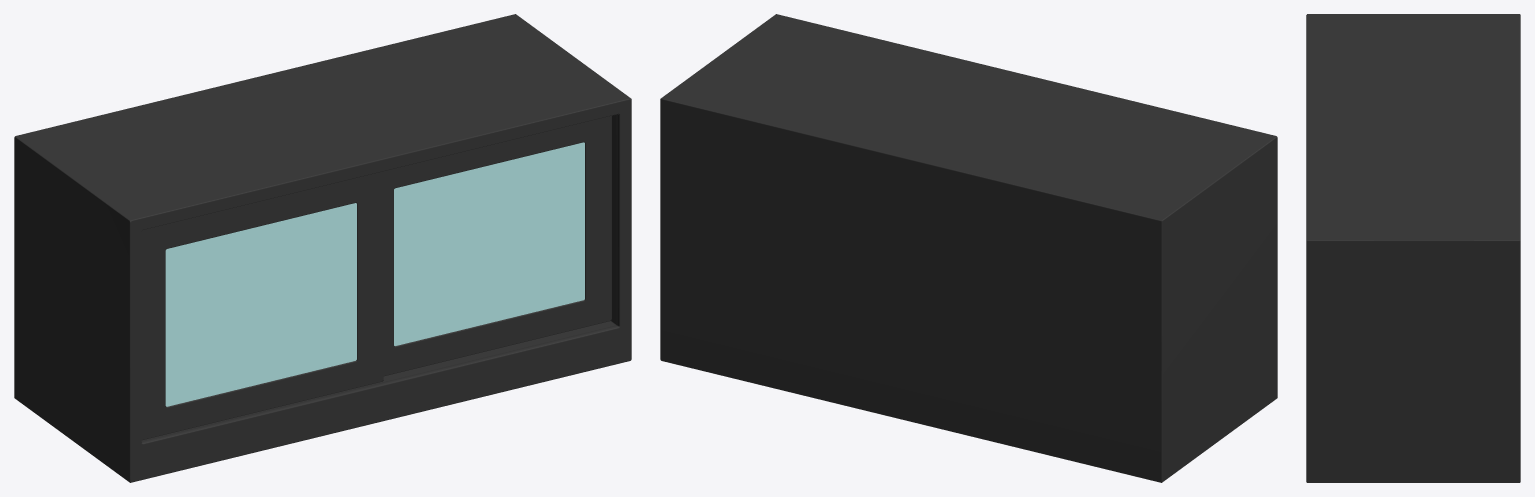
The model's file is SM_Shelf_100x50_Glass.FBX.
3 views of the same model, side by side, from view 1: azimuth 30°, elevation 25°; view 2: azimuth 150°, elevation 25°; view 3: azimuth 270°, elevation 25° (orthographic). The views are drawn at different scales.
Parts seen in each view (by area): view 1: SM_Shelf_100x50_Glass; view 2: SM_Shelf_100x50_Glass; view 3: SM_Shelf_100x50_Glass.
Part boxes in pixels (bbox=[...]): SM_Shelf_100x50_Glass: bbox=[14, 14, 631, 482]; SM_Shelf_100x50_Glass: bbox=[660, 14, 1277, 482]; SM_Shelf_100x50_Glass: bbox=[1306, 14, 1520, 482].
Size of what is drawn, in the model's own units: 100 by 40 by 50.
